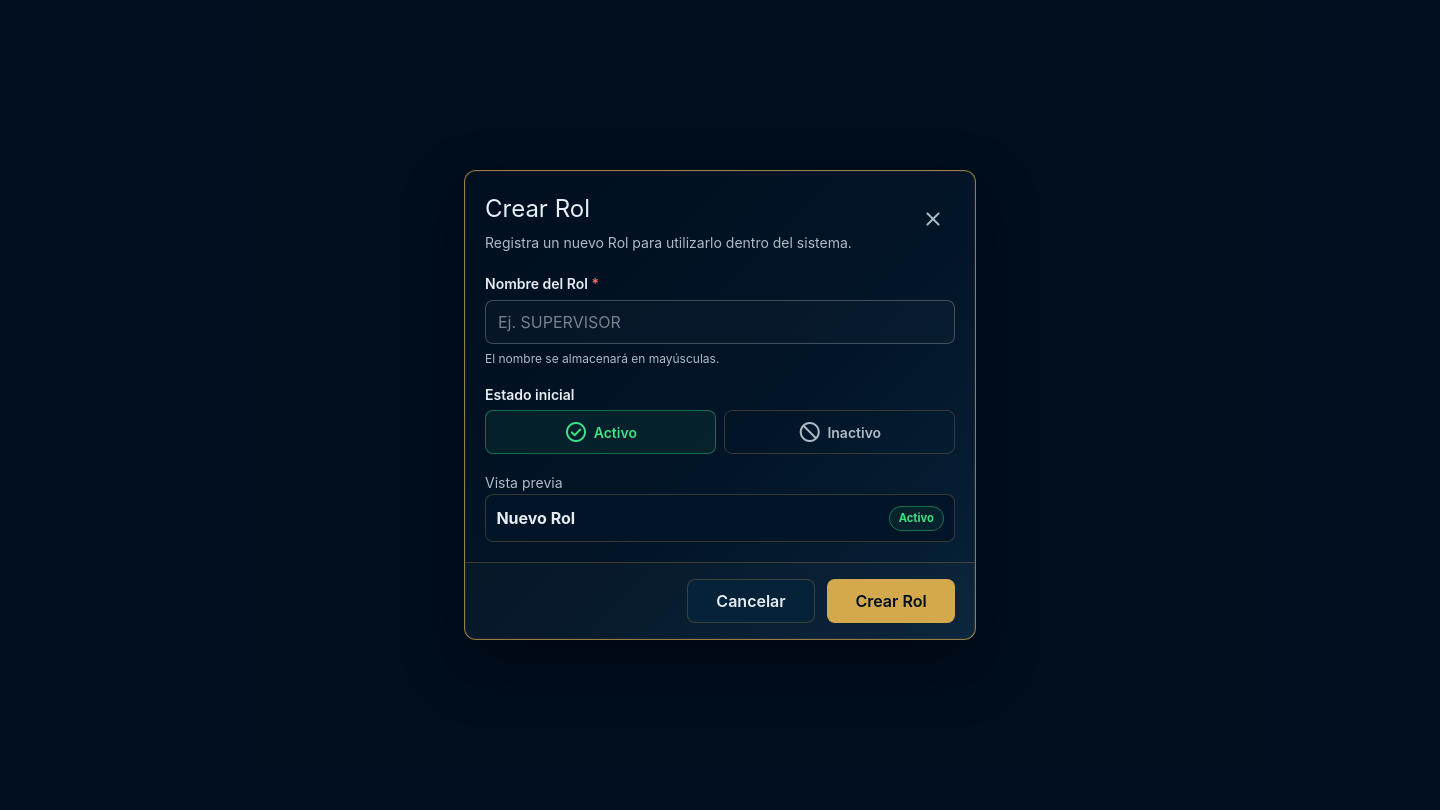
Test: RolFormModalComponent › updates the visual initial state and preview without changing the request contract
What coordinates should you click on to do the following:
click the radio button labelled "Inactivo"
I would click on:
 (840, 432)
Its box is 724,410 -> 955,454.
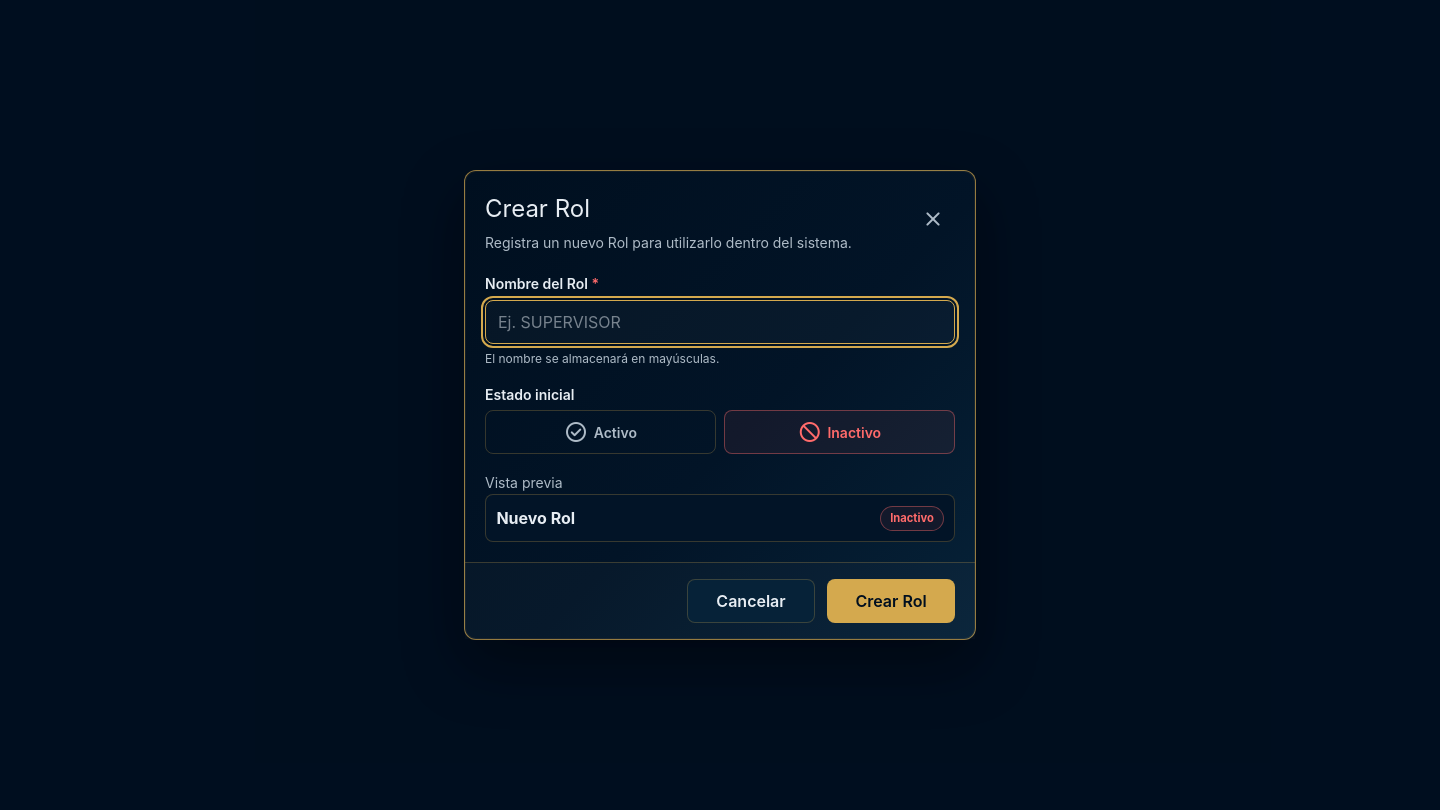
Expected: the text "Inactivo" is shown, 880,506 -> 944,531
